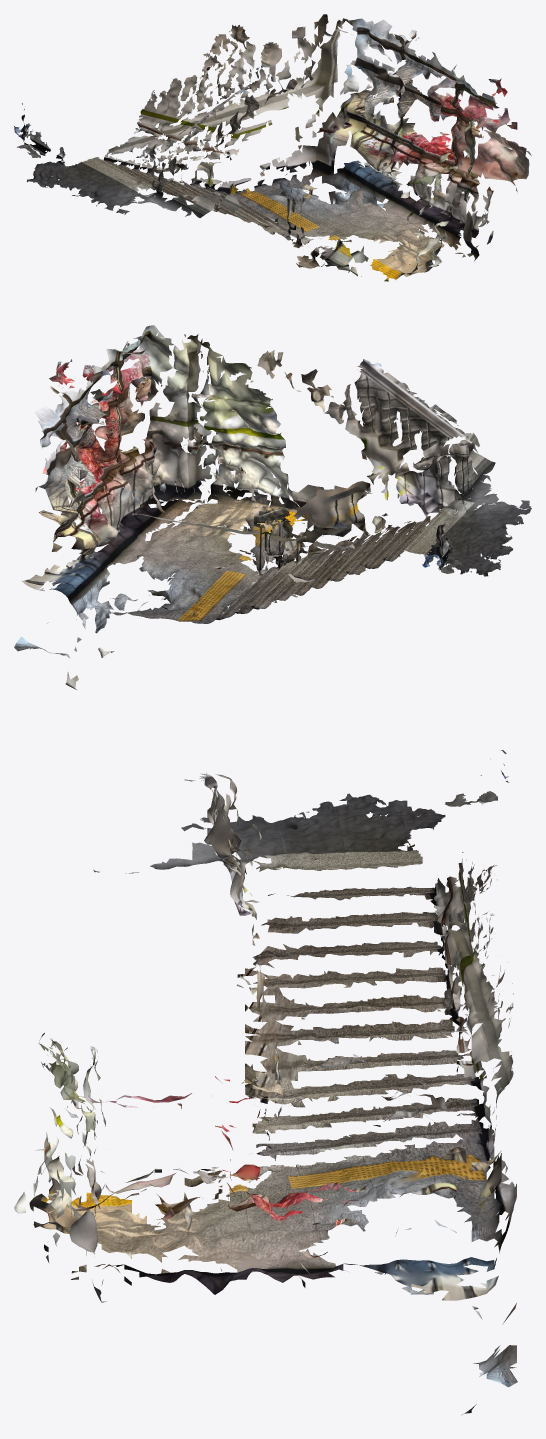
The model's file is 137758-Stair-tex.glb.
3 views of the same model, one above another, from view 1: azimuth 30°, elevation 25°; view 2: azimuth 150°, elevation 25°; view 3: azimuth 270°, elevation 25° (orthographic). The views are drawn at different scales.
Visible parts, largest first — view 1: Node; view 2: Node; view 3: Node.
Boxes of the visible parts, x1=… form: Node: x1=14, y1=14, x2=531, y2=281; Node: x1=14, y1=325, x2=531, y2=689; Node: x1=14, y1=750, x2=517, y2=1415.
Size of the model in its own units: 8.46 by 5.09 by 4.85.
Materials: 8 (8 with a texture image).
